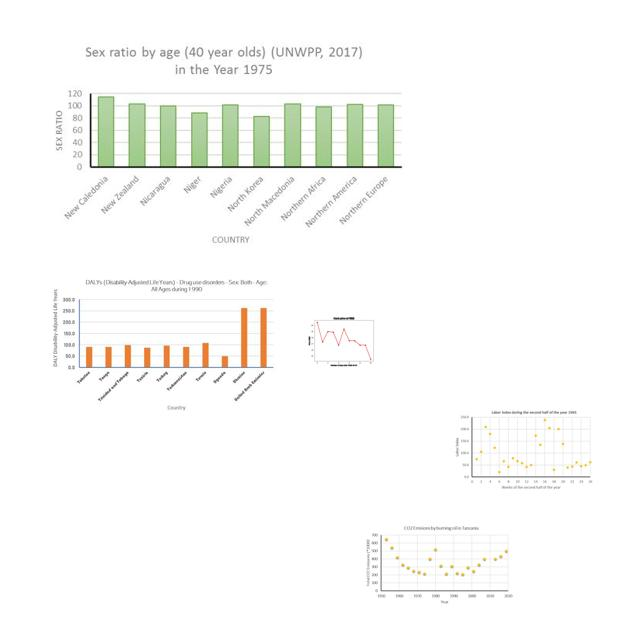Graph: (42, 42, 408, 246), (49, 276, 277, 414), (365, 524, 514, 606), (455, 409, 594, 490), (305, 312, 381, 369)
